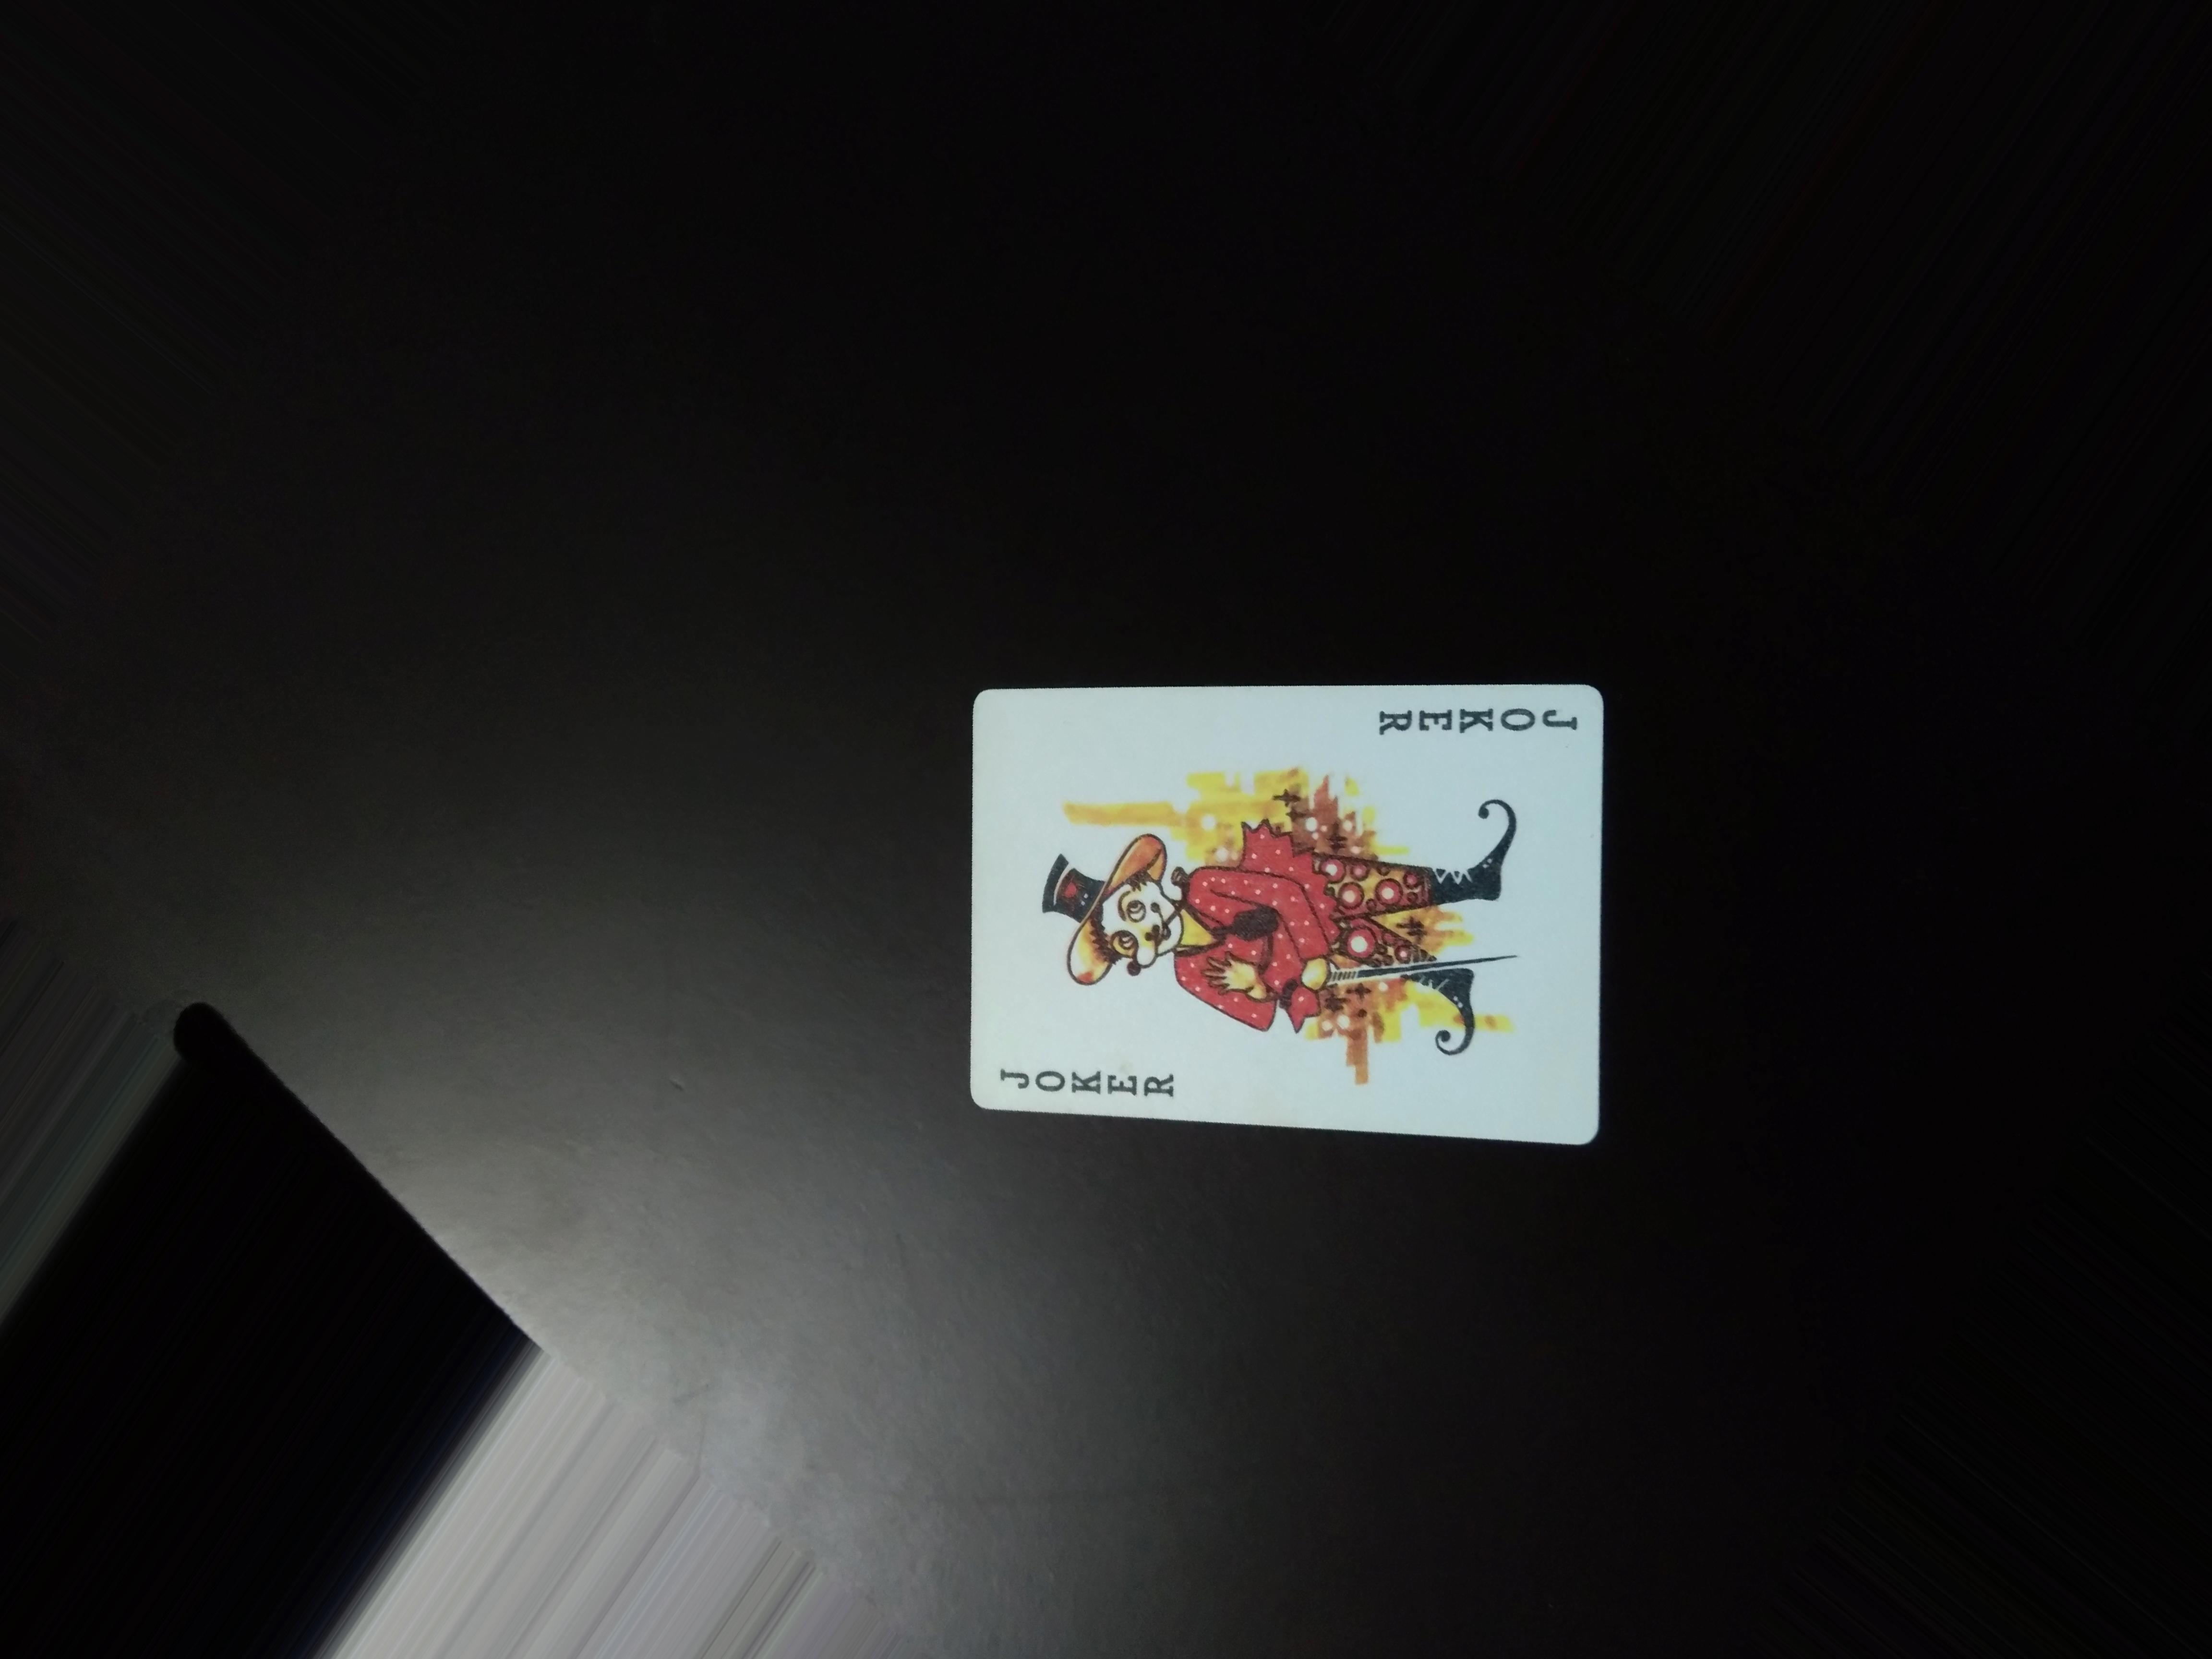JOKER: (1348, 674, 1597, 765)
